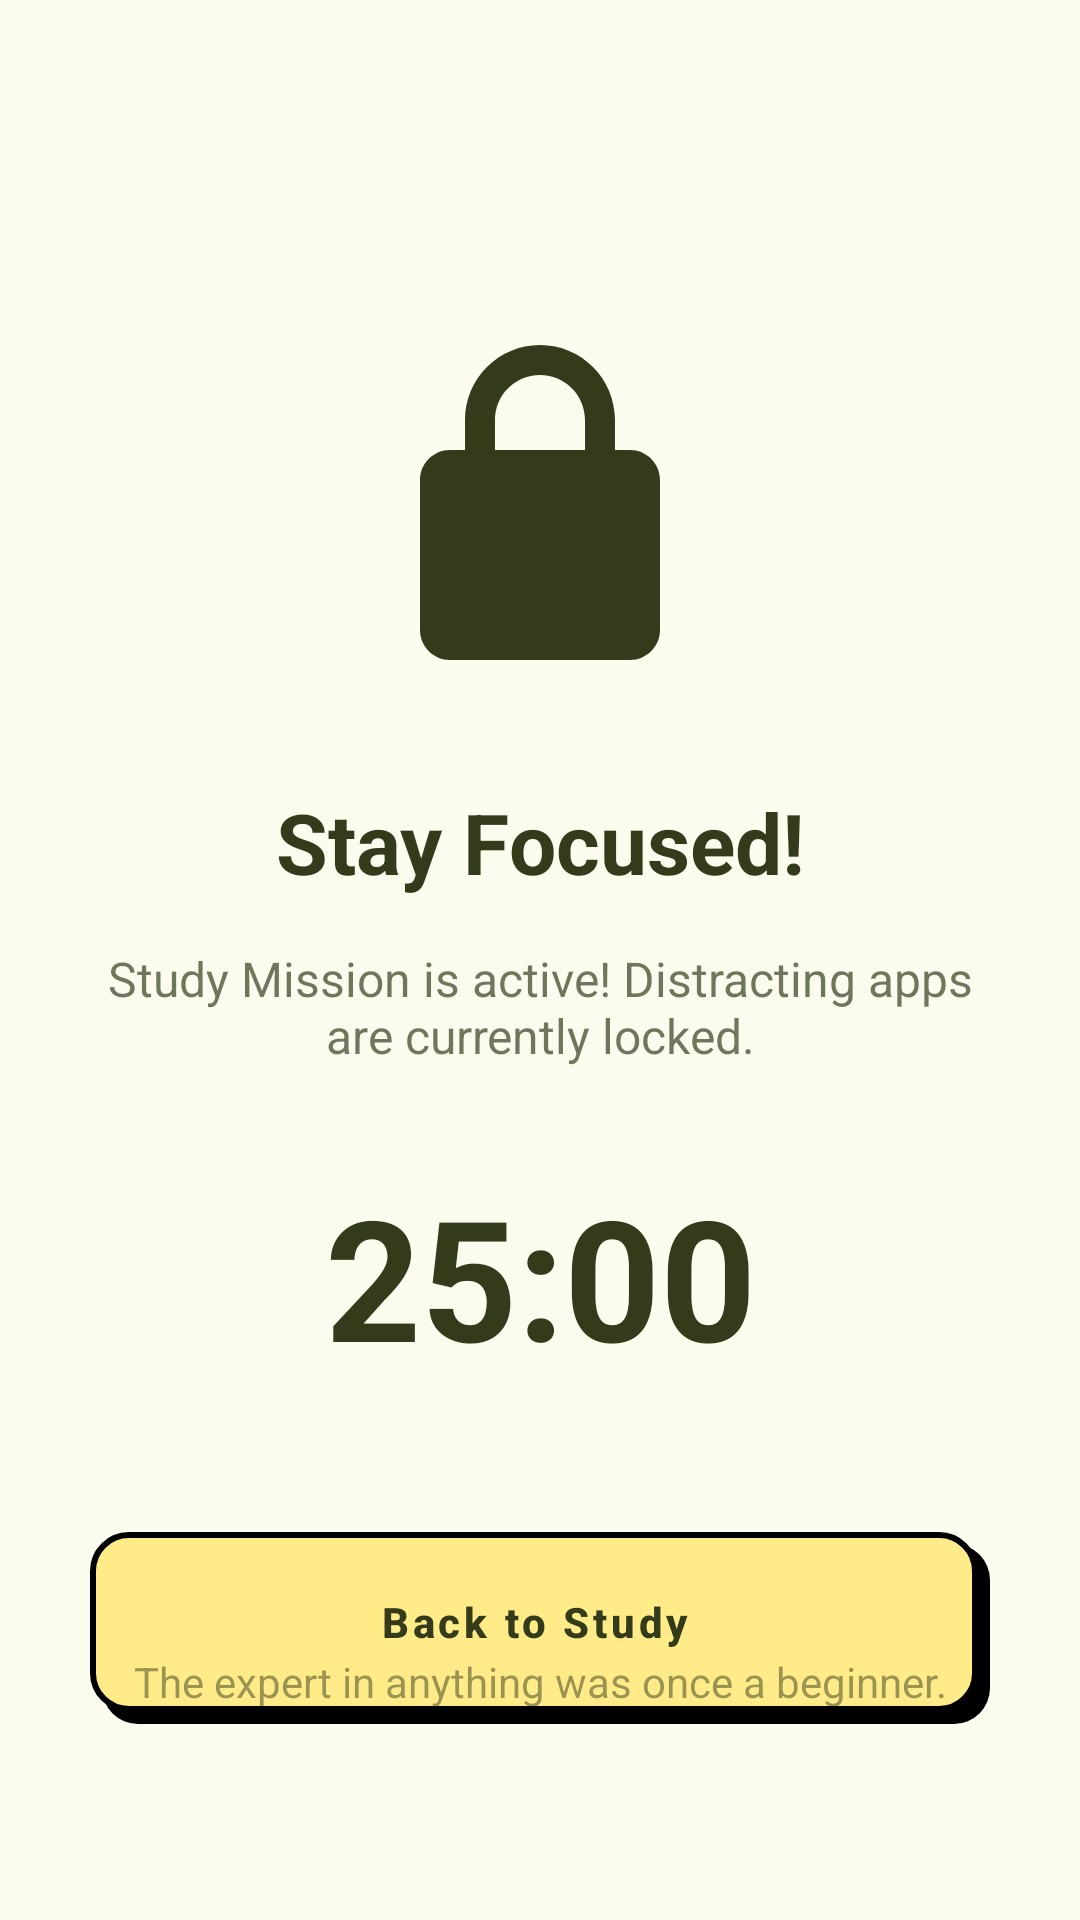

Icon click points for this 1080×1920 phone screenshot, format (x=x, y=y):
lock chunky: (x=540, y=502)
